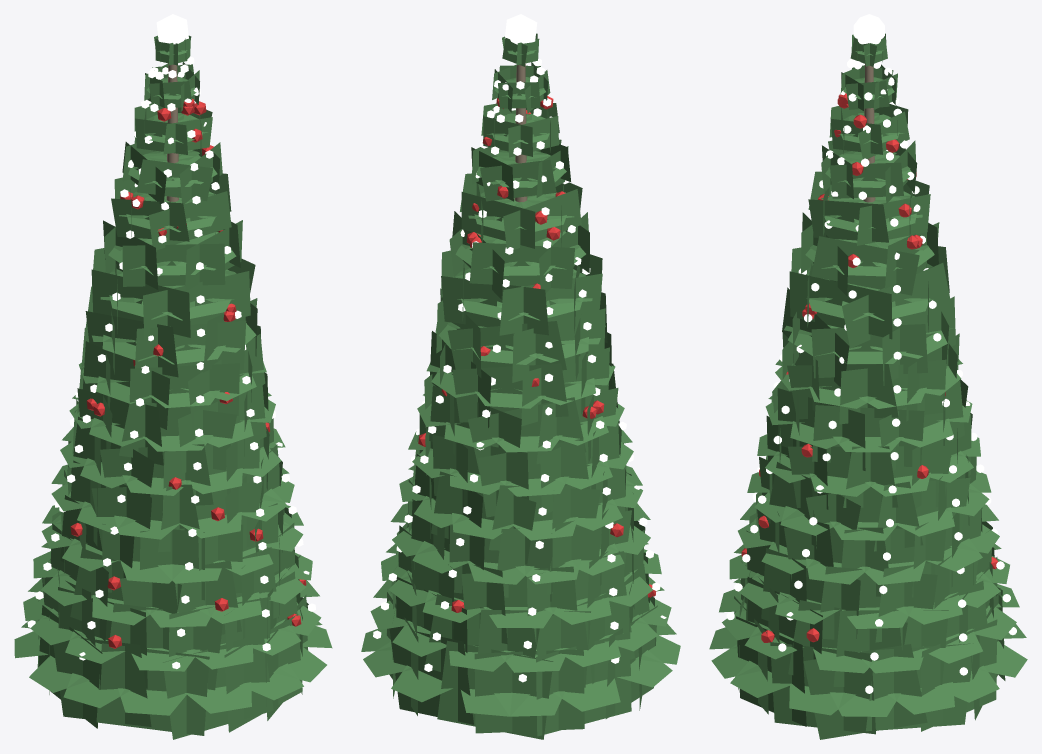
The model's file is christmas_tree_big.glb.
The picture shows the model from 3 angles, left to right: view 1: azimuth 30°, elevation 25°; view 2: azimuth 150°, elevation 25°; view 3: azimuth 270°, elevation 25°; orthographic projection.
Parts seen in each view (by area): view 1: christmas_tree_big; view 2: christmas_tree_big; view 3: christmas_tree_big.
Boxes of the visible parts, x1,y1,x2,y2 form: christmas_tree_big: (14,14,332,739); christmas_tree_big: (361,14,680,739); christmas_tree_big: (709,14,1027,739).
Bounding box in the file's own units: 11.32 × 26.43 × 11.31.
